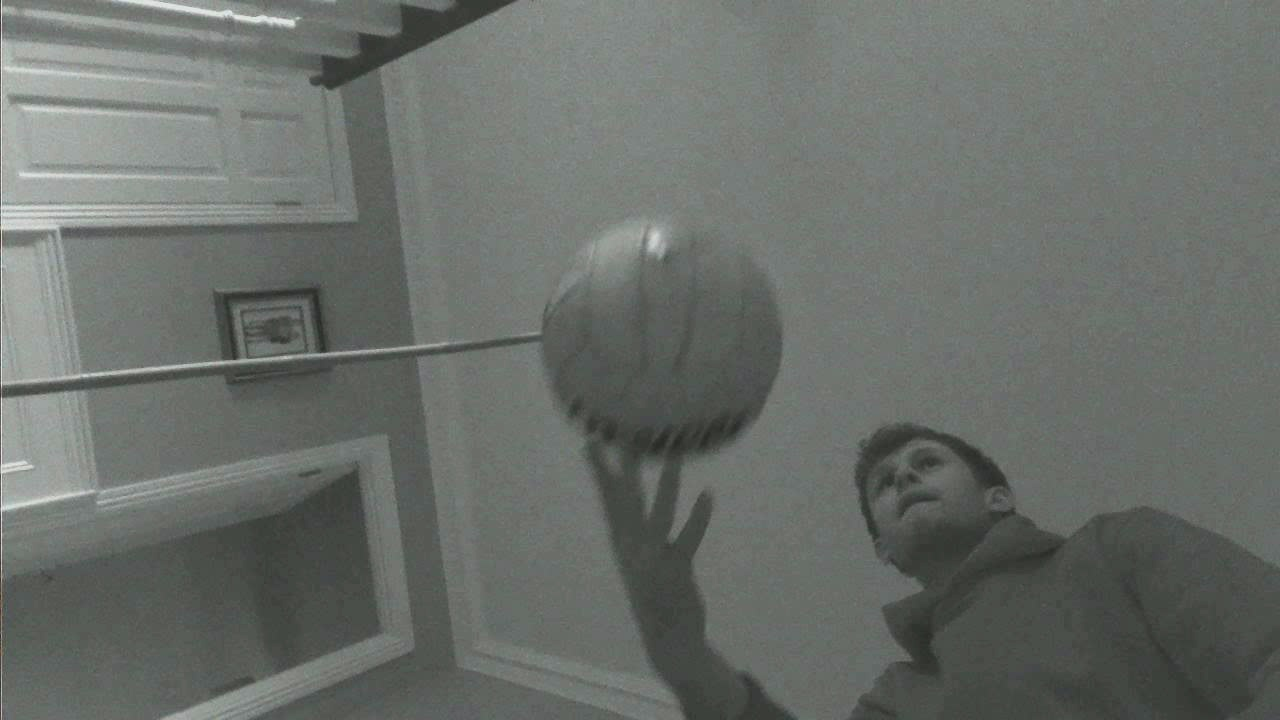Football-Spotter: (542, 216, 780, 454)
